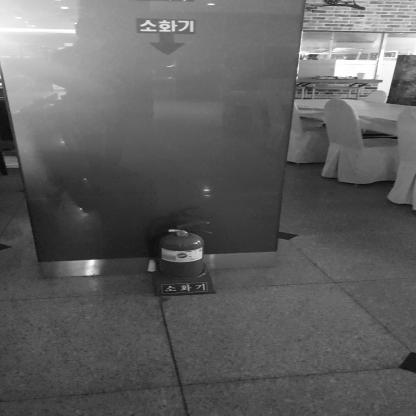FE: (142, 220, 221, 298)
